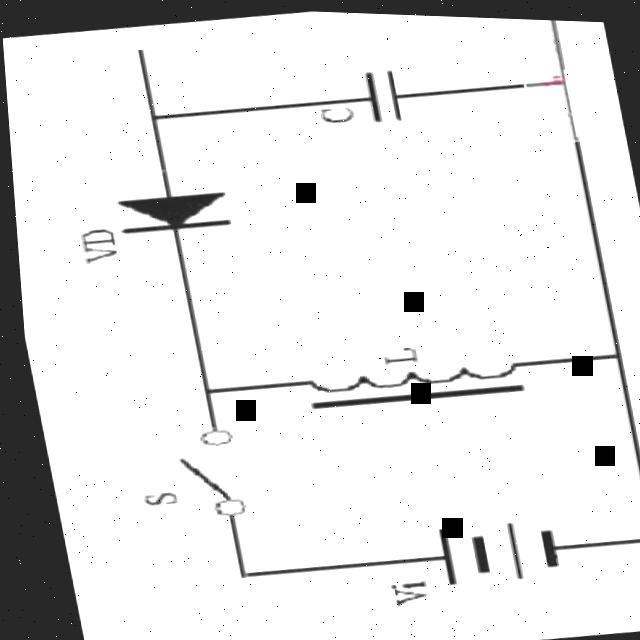capacitor: (324, 54, 453, 134)
diode: (95, 173, 250, 249)
inductor: (285, 327, 536, 423)
source: (397, 495, 590, 596)
switch: (144, 409, 268, 533)
